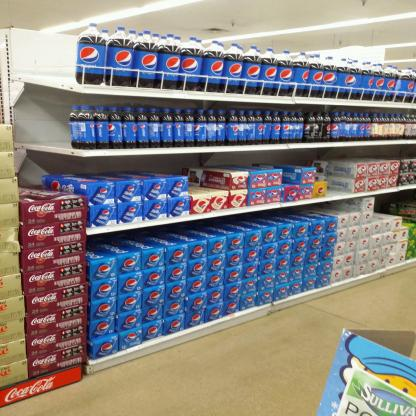empty_space: (328, 191, 351, 198)
